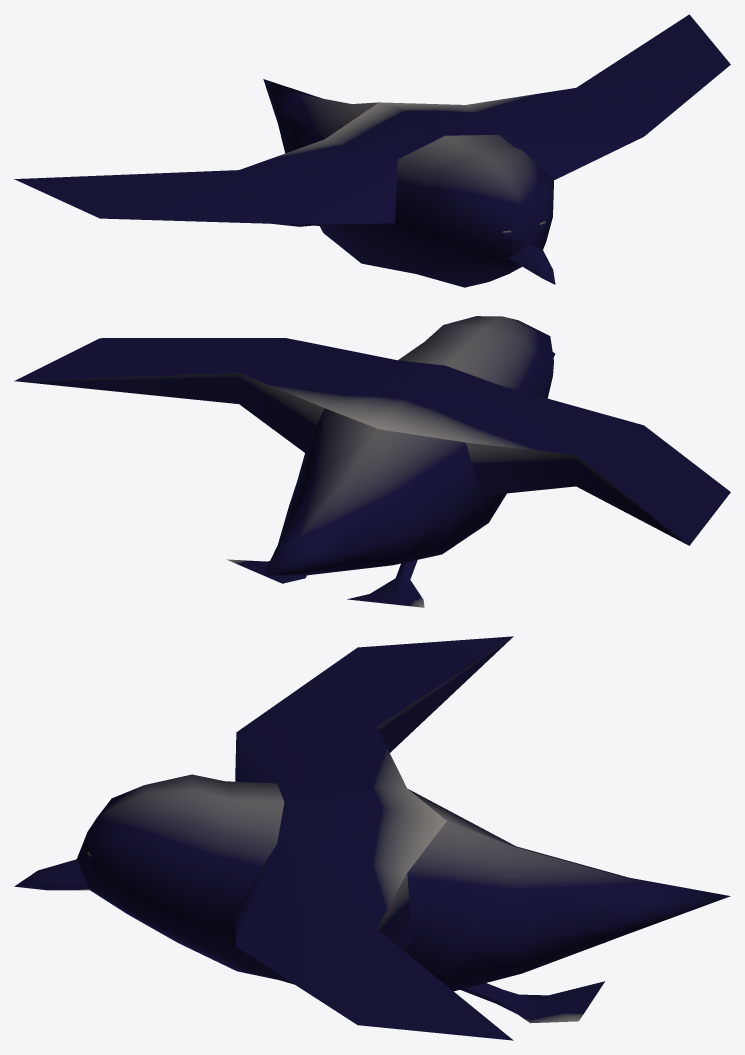
File: SM_Base_Seagull.fbx
The picture shows the model from 3 angles, top to bottom: view 1: azimuth 30°, elevation 25°; view 2: azimuth 150°, elevation 25°; view 3: azimuth 270°, elevation 25°; orthographic projection. The views are drawn at different scales.
Visible parts, largest first — view 1: SM_Base_Seagull; view 2: SM_Base_Seagull; view 3: SM_Base_Seagull.
Part boxes in pixels (x1,y1,x2,y2): SM_Base_Seagull: (14,14,730,287); SM_Base_Seagull: (14,316,730,607); SM_Base_Seagull: (14,636,730,1040).
Bounding box in the file's own units: 257 × 59.01 × 193.
